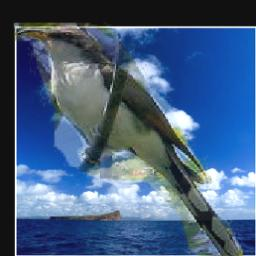Cuckoo: (15, 23, 244, 256)
